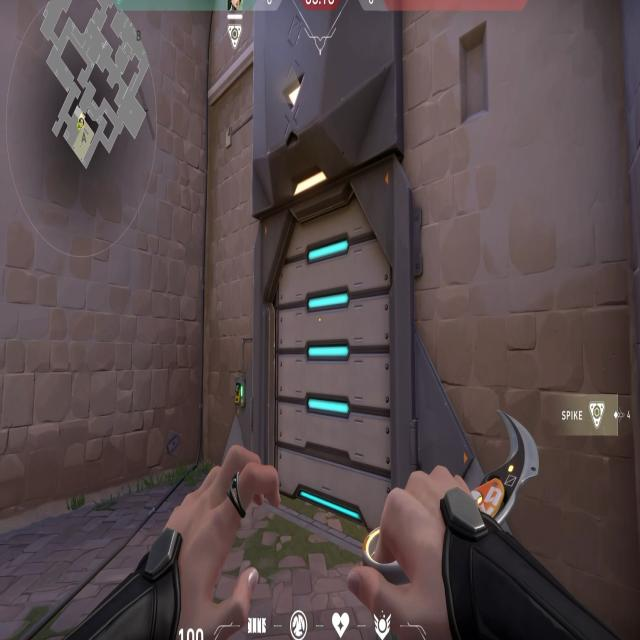A_Door: (253, 157, 412, 550)
